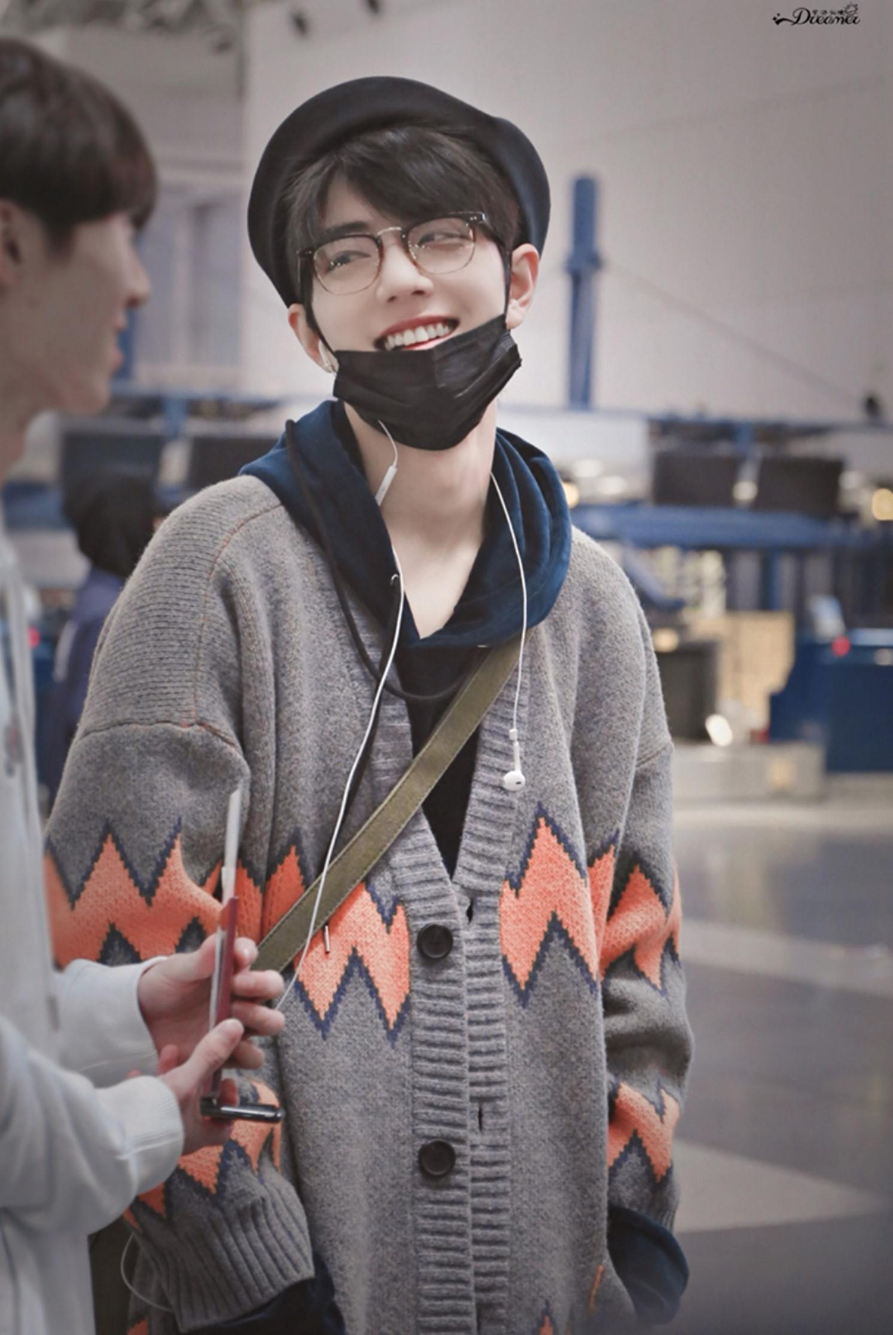NONE: (69, 200, 151, 427)
WRONG: (304, 174, 501, 400)
